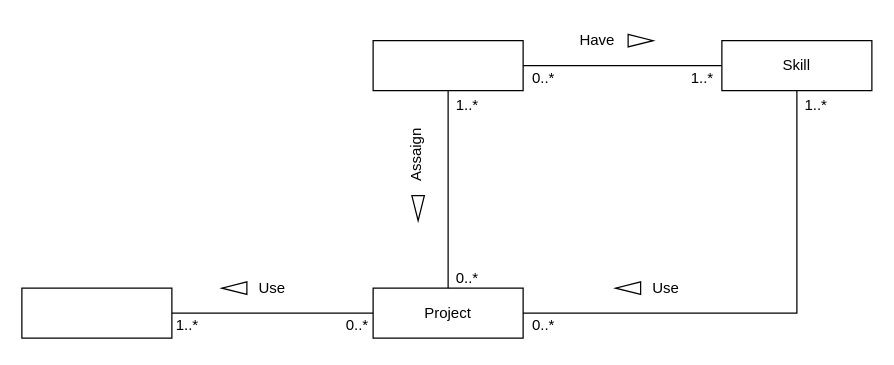
The diagram is 894 pixels wide and 365 high, and some of its shapes have lost their labels. The box of each missing label's shape, as (x1, y1, x2, y2) in pixels:
IT_Solution: (21, 287, 172, 338)
Staff: (372, 39, 523, 91)
